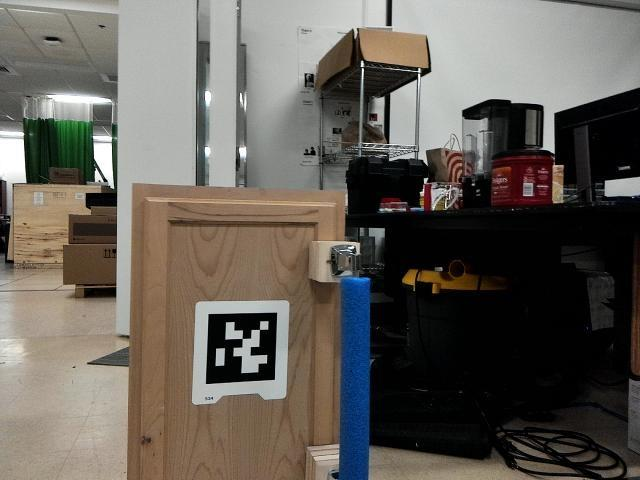noodle_handle: (334, 263, 377, 480)
